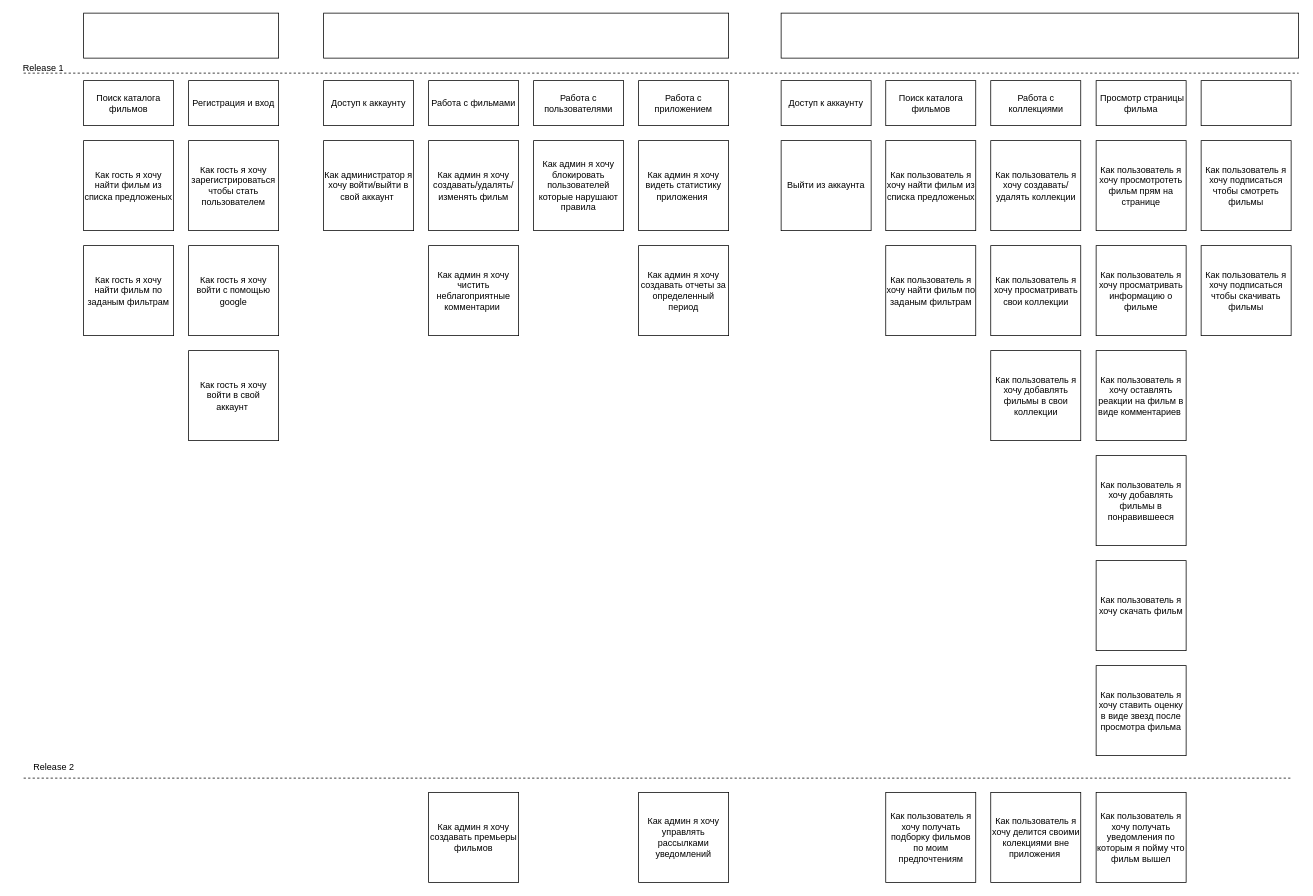
Some shapes in this 1313 by 896 pixel diagram are drawn without their labels. The shapes that lost their labels are listed below. From the top down, each one's centre as x and y in pixels, then its label:
At (181,35): "Г ость".
At (526,35): "Администратор".
At (1039,35): "Пользователь".
At (1245,103): "Подписка".
